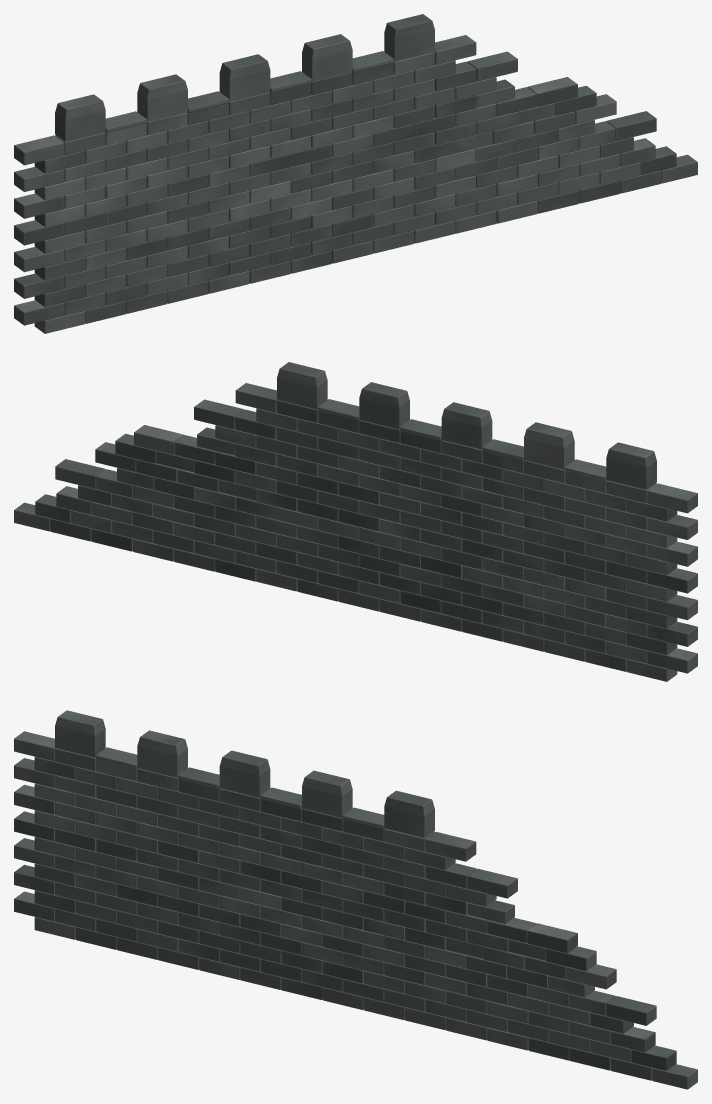
The model's file is Medieval Final Wall_3.fbx.
3 renders of one model, top to bottom at view 1: azimuth 30°, elevation 25°; view 2: azimuth 150°, elevation 25°; view 3: azimuth 330°, elevation 25°, orthographic.
Parts seen in each view (by area): view 1: Medieval end wall-2; view 2: Medieval end wall-2; view 3: Medieval end wall-2.
Part boxes in pixels (x1=…): Medieval end wall-2: x1=14, y1=14, x2=697, y2=333; Medieval end wall-2: x1=14, y1=362, x2=697, y2=681; Medieval end wall-2: x1=14, y1=710, x2=697, y2=1089.
Size of the model in its own units: 1529 by 474 by 44.55.
1 material, 1 textured.
